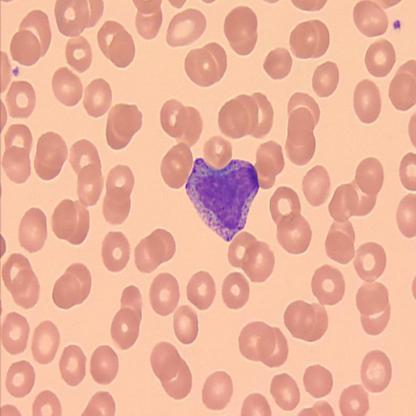Myelocyte: (184, 154, 258, 243)
